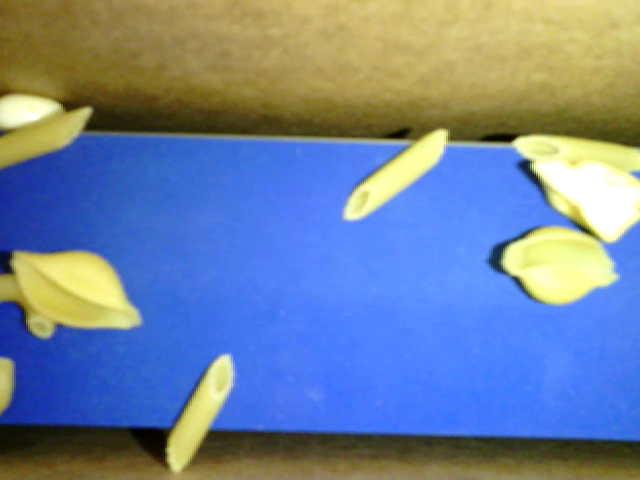elbow: (1, 273, 56, 339)
penne: (342, 126, 449, 221), (163, 352, 237, 473), (1, 106, 92, 168), (511, 134, 639, 170)
shell: (9, 246, 142, 329), (498, 226, 621, 306)
tortellini: (531, 157, 639, 242)
